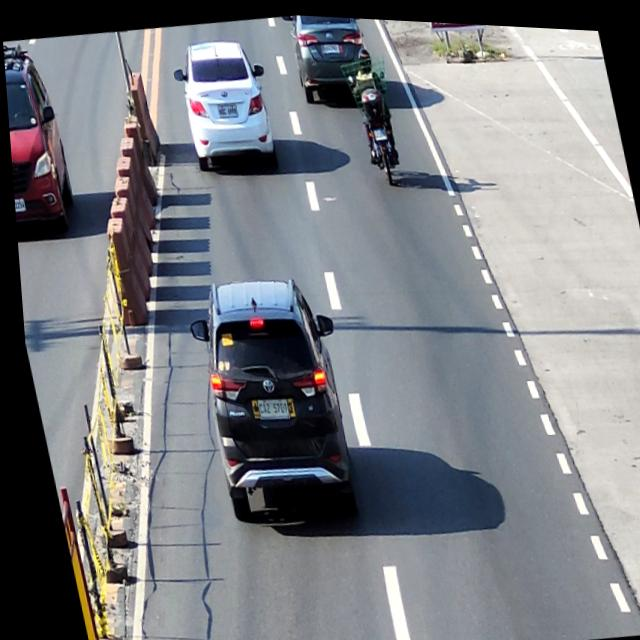Car: (175, 264, 368, 531), (166, 31, 284, 180), (2, 40, 79, 245), (282, 11, 379, 105)
License-Plate: (250, 393, 285, 422), (215, 99, 238, 118), (323, 38, 339, 52), (11, 196, 23, 213), (372, 124, 386, 137)
Motorcycle: (345, 62, 406, 186)
